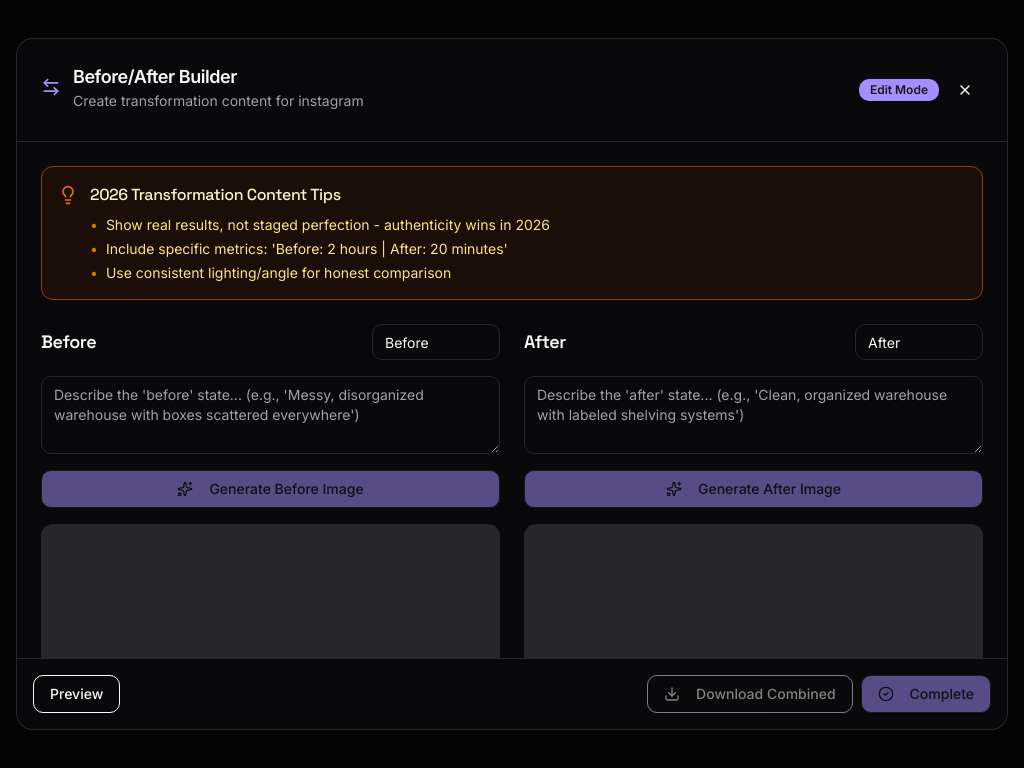
BeforeAfterBuilder - Image Generation › shows error text when image generation fails
Replace the text in the text box with placeholder "Describe the 'before' state" with "Something" at (270,415), box [41,376,500,454]
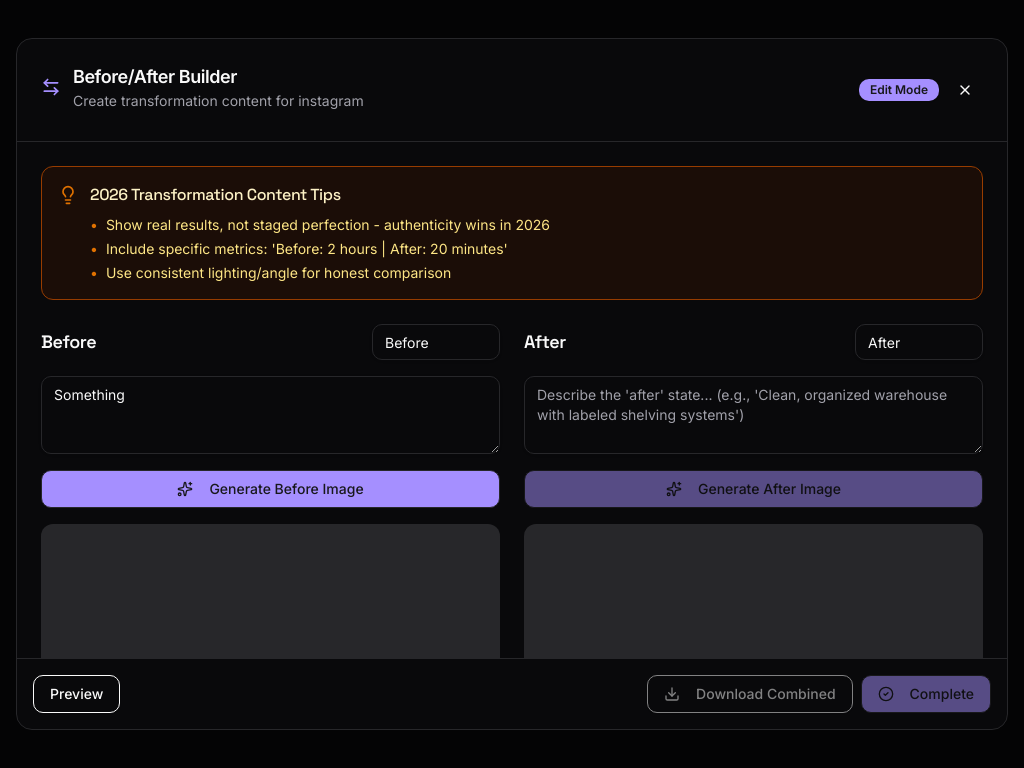
Click the button "Generate Before Image" at (270,489), box [41,470,500,508]
(page scrolled)
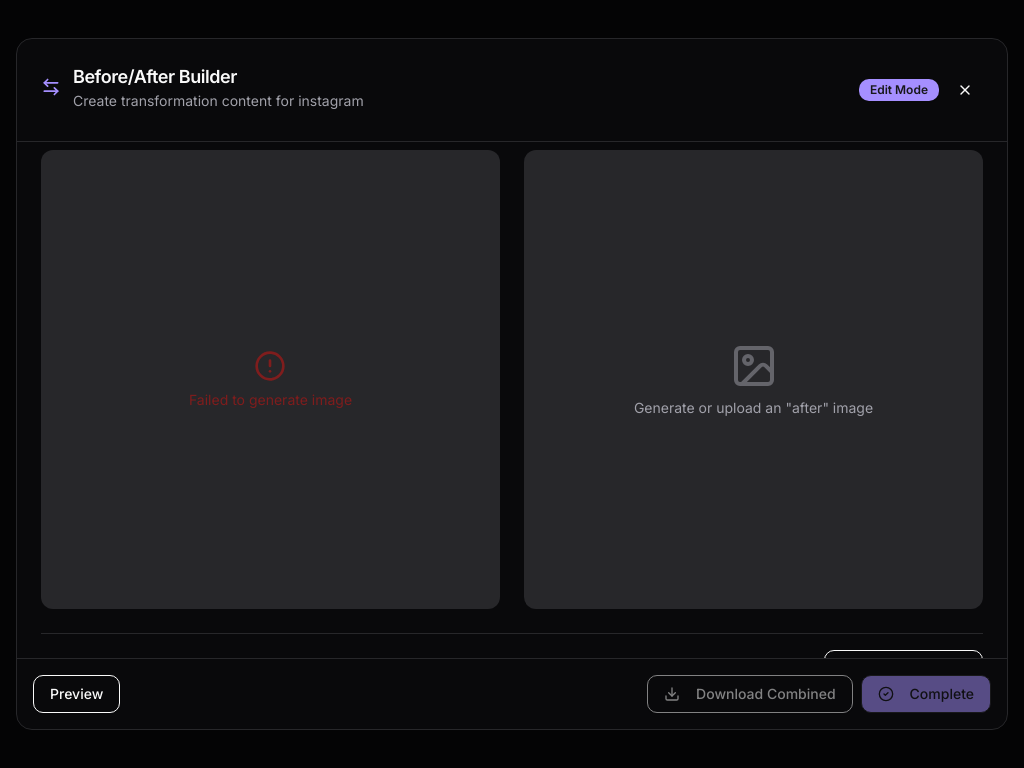
expect the text "Failed to generate image" is shown: met, box [189,390,352,410]
